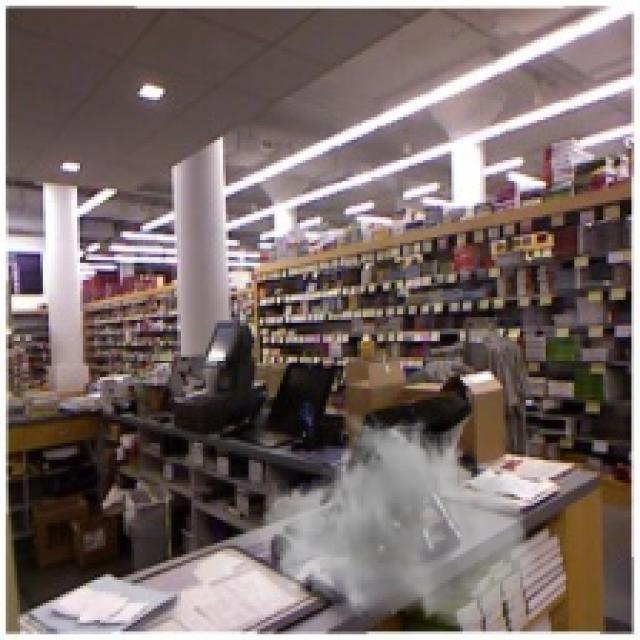Smoke: (257, 412, 540, 628)
